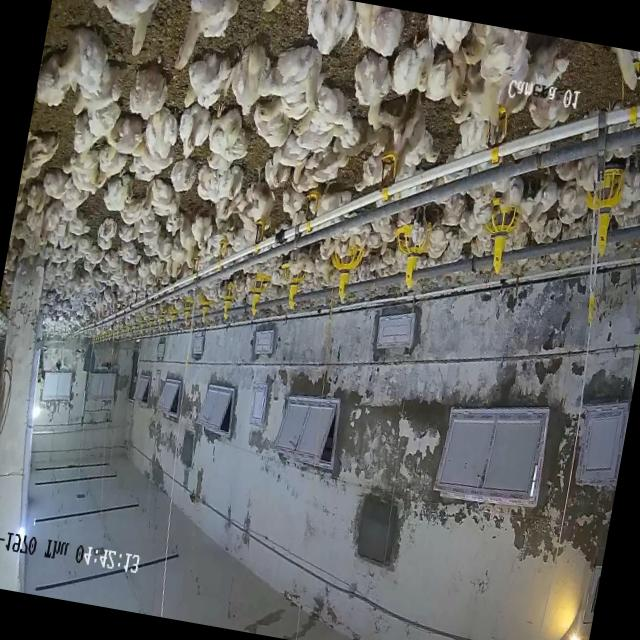abnormal chicken: (223, 30, 280, 116), (178, 42, 236, 116), (94, 144, 129, 192)
dead: (522, 84, 580, 151)
feeding: (378, 84, 432, 192), (248, 172, 279, 240), (172, 212, 207, 270), (171, 222, 195, 280)
leg stretching: (162, 152, 205, 198)
stand bath: (172, 104, 212, 162), (98, 214, 120, 242)
wingstretching: (80, 0, 174, 62)
